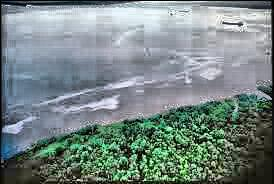sheen: (48, 81, 129, 112), (3, 117, 32, 135)
